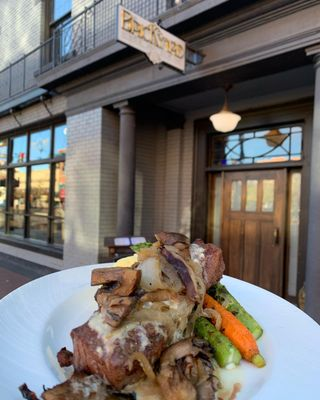soup: (38, 232, 269, 400)
